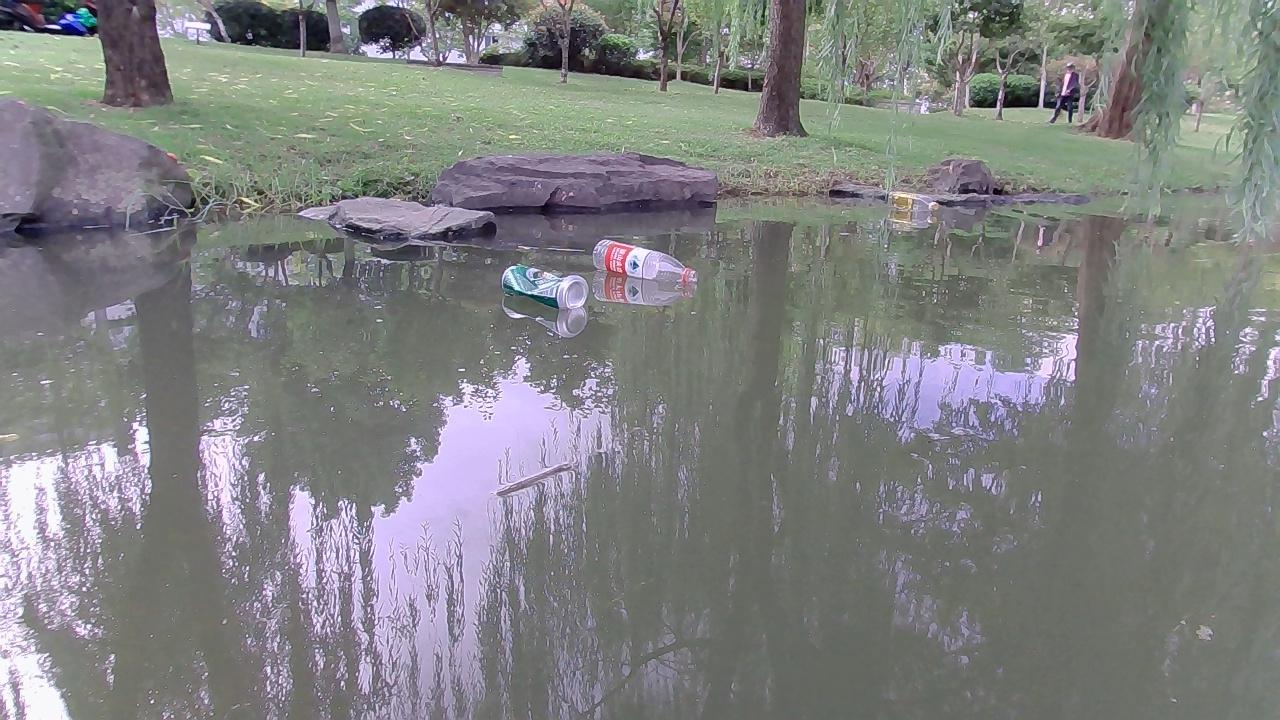Metal: (500, 263, 590, 311)
Plastic: (590, 237, 700, 286), (884, 189, 940, 213)
